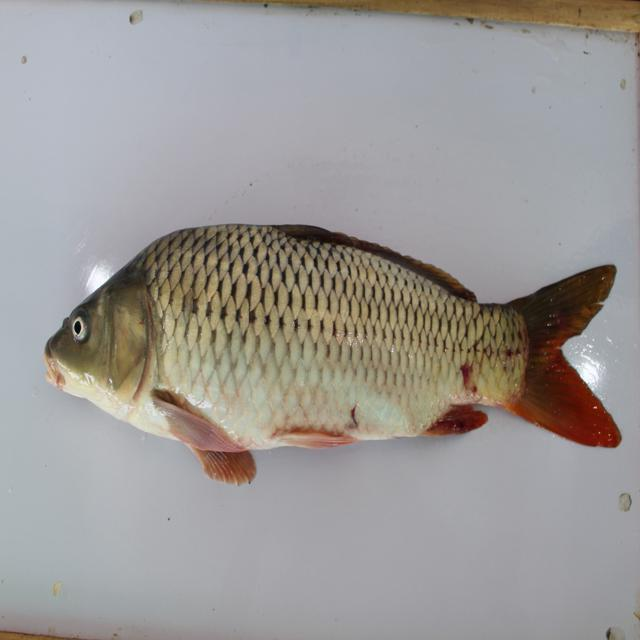CommonCarp: (39, 204, 630, 491)
